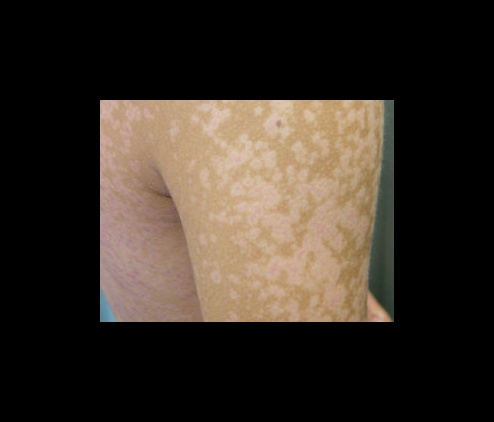SJS-TEN: (97, 99, 398, 326)
